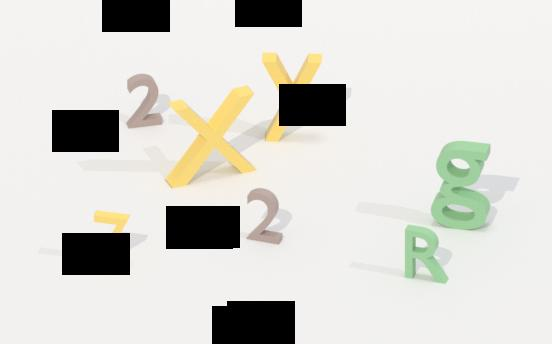2: (237, 184, 291, 253), (120, 69, 166, 133)
7: (87, 200, 140, 273)
R-hoa: (403, 222, 449, 286)
Y: (260, 43, 332, 150)
g: (432, 129, 501, 244)
x: (167, 85, 259, 192)
